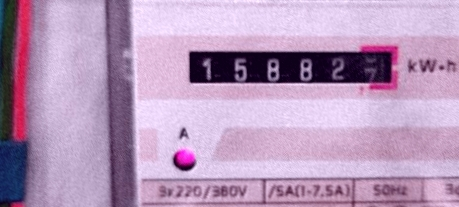1: (201, 55, 215, 81)
2: (331, 55, 346, 79)
5: (233, 55, 249, 81)
7: (364, 63, 378, 83)
8: (266, 56, 282, 82), (299, 56, 314, 81)
screen: (174, 34, 408, 100)
